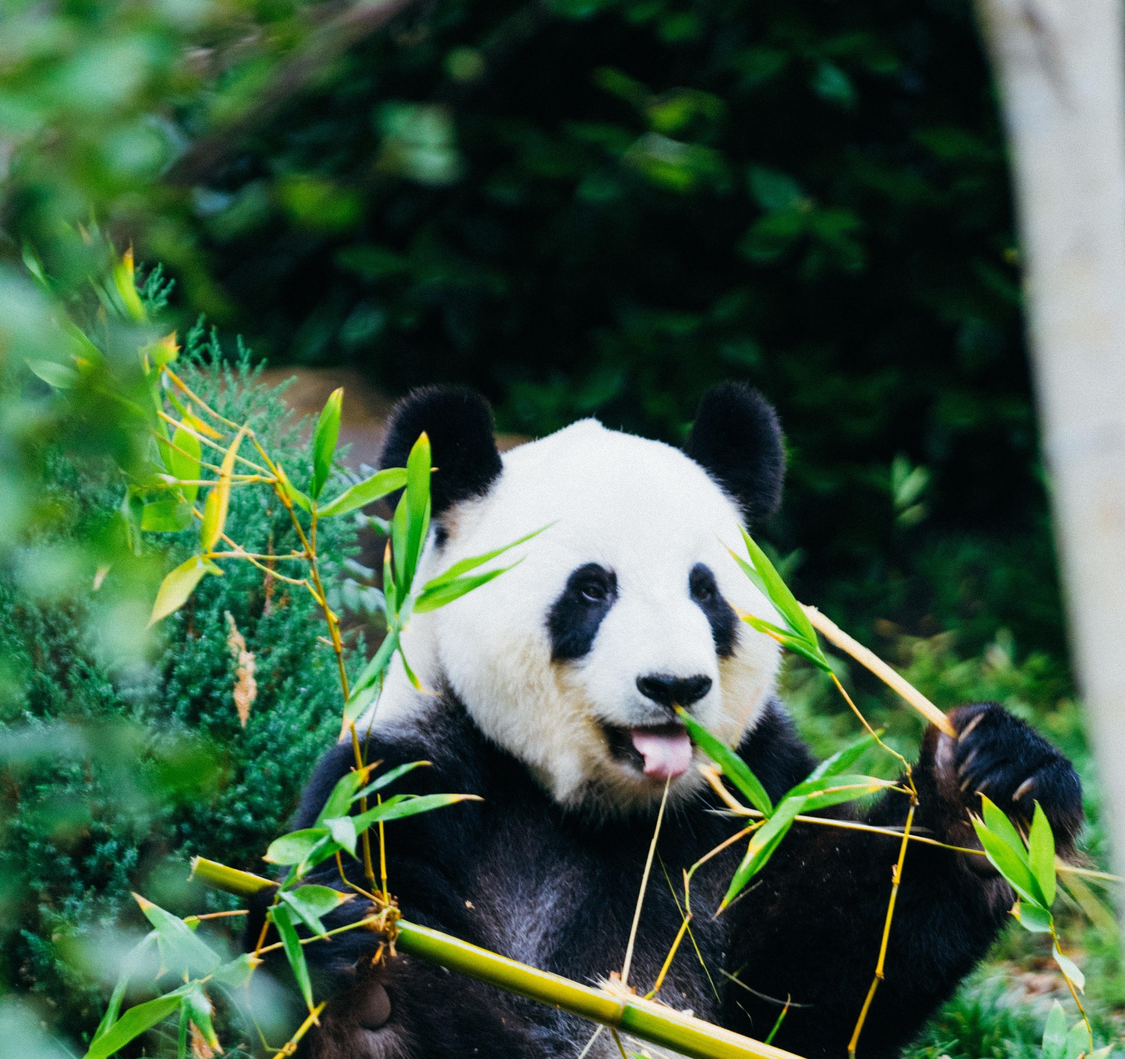panda: (325, 393, 1074, 1051)
